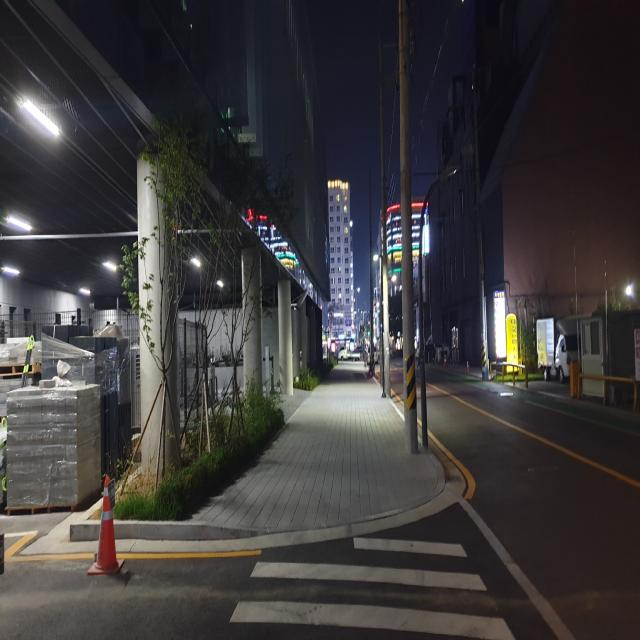횡단보도: (228, 534, 516, 640)
